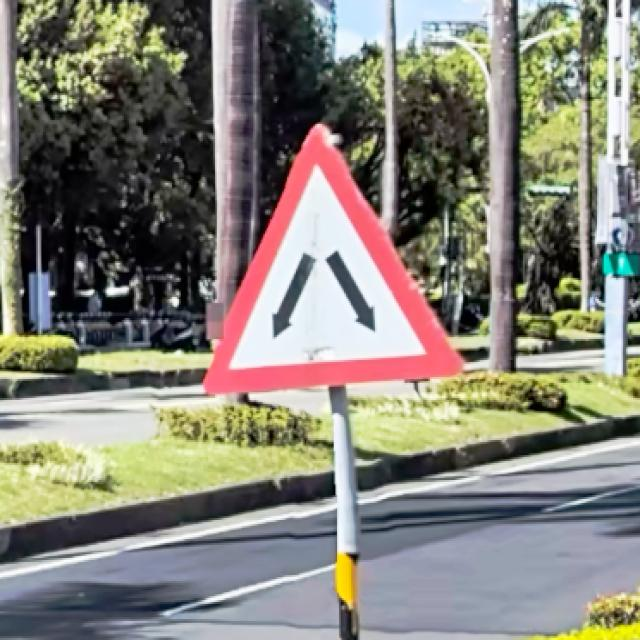diverge: (203, 124, 466, 396)
